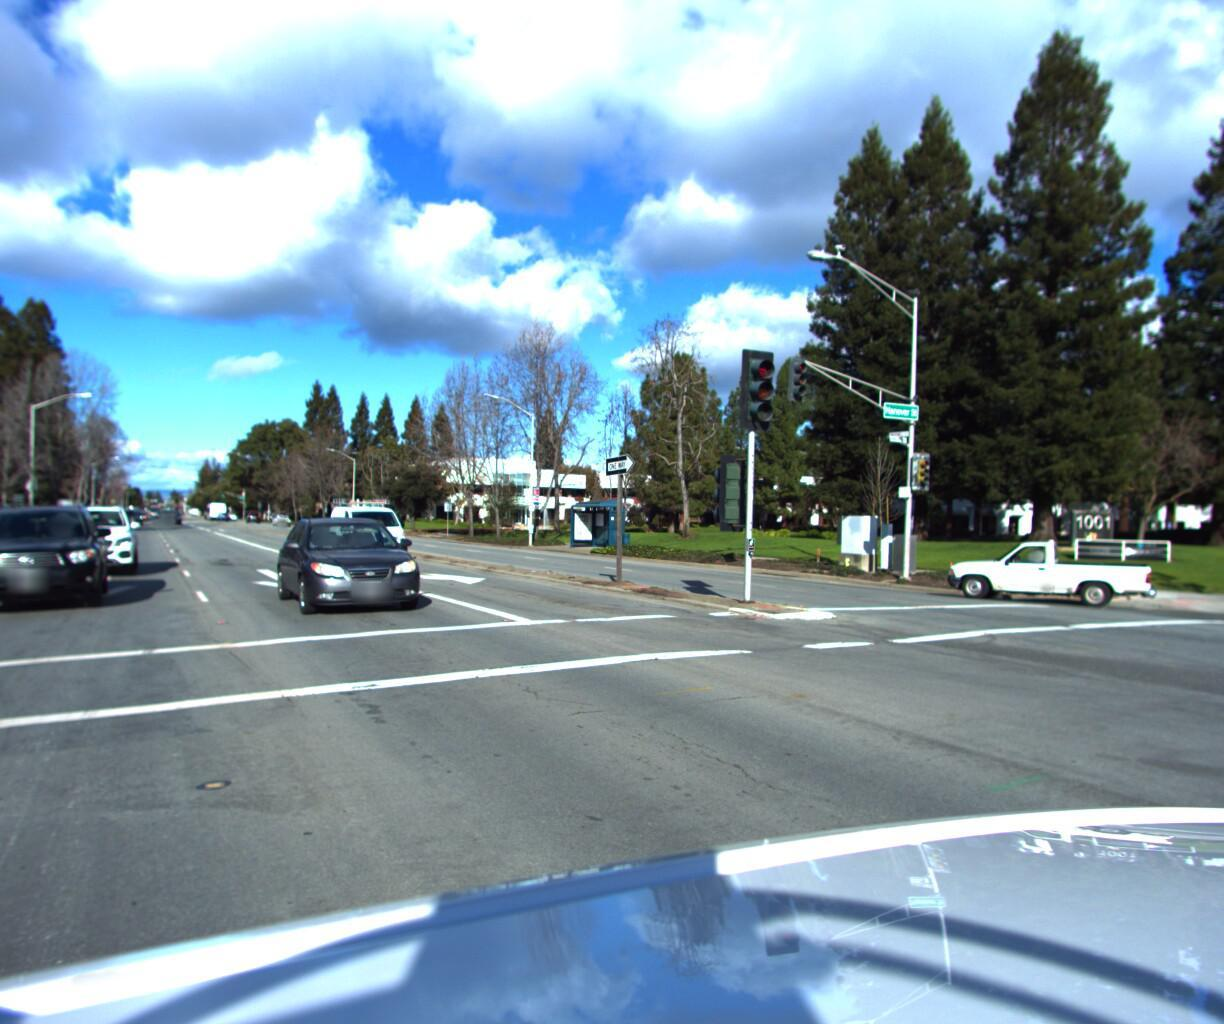car: (264, 508, 436, 627), (938, 529, 1157, 602), (0, 494, 110, 620), (27, 498, 141, 585), (320, 490, 410, 563)
